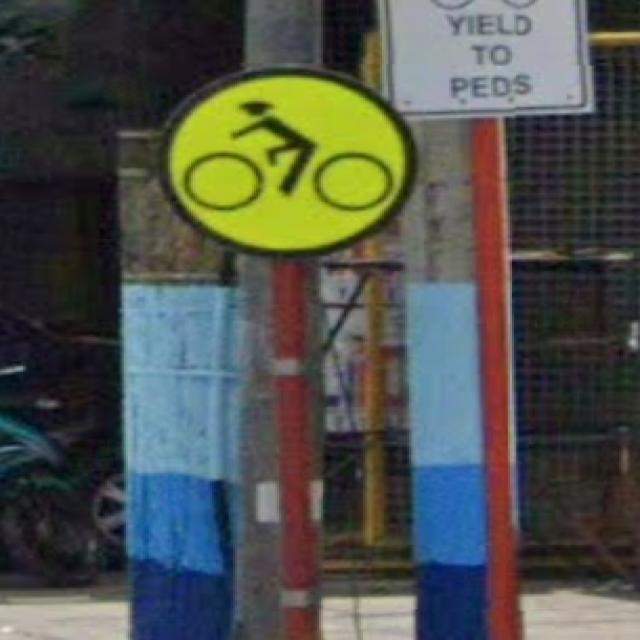bike lane: (158, 65, 416, 258)
